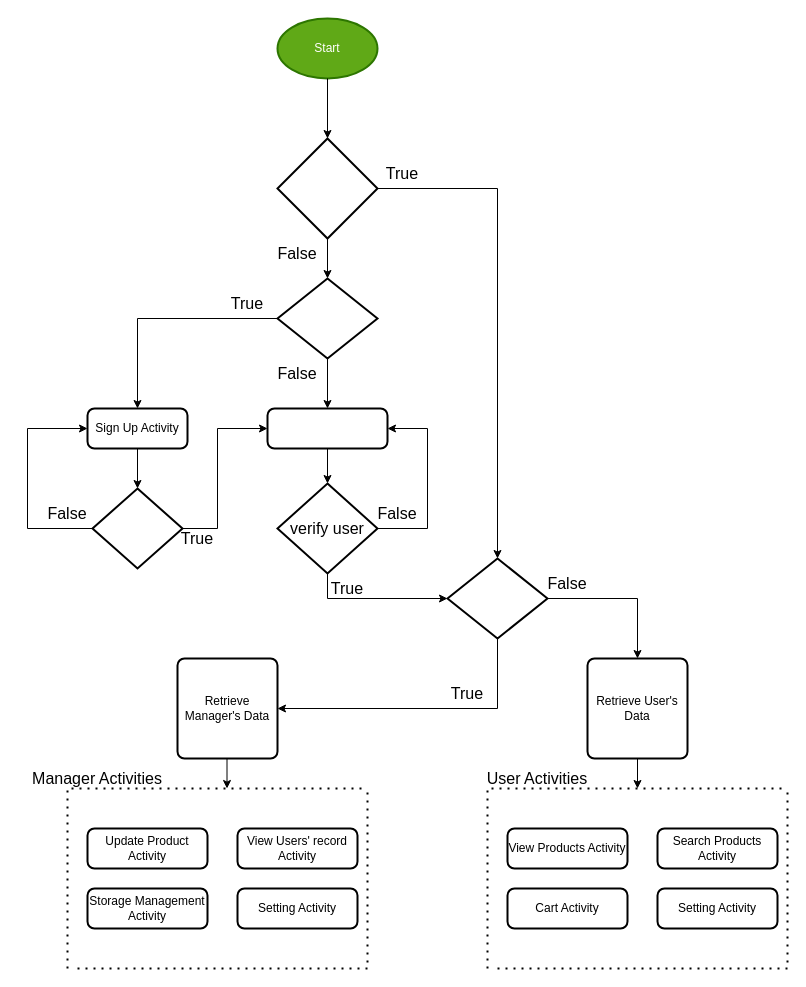
The diagram is 806 pixels wide and 987 high, and some of its shapes have lost their labels. The shapes that lost their labels are listed below. From the top down, each one's centre as x and y in pixels, then its label:
At pixel 327 188: "isSession".
At pixel 327 318: "isNewUser".
At pixel 327 428: "Login Activity".
At pixel 137 528: "Verify Information".
At pixel 497 598: "isManager".
